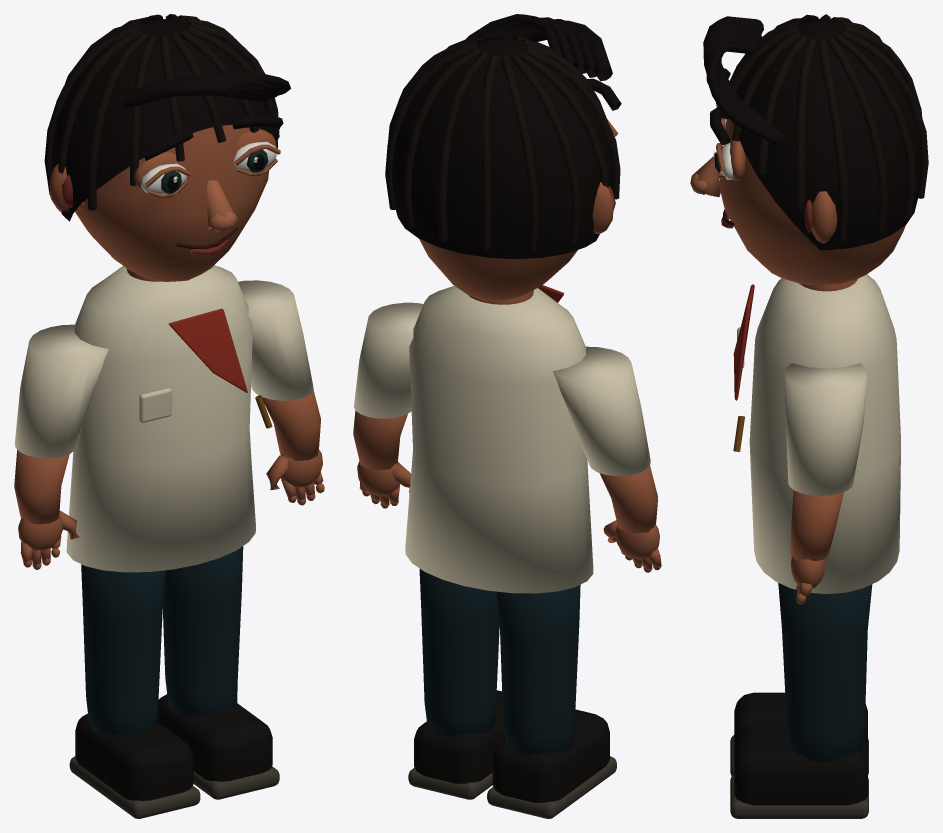
The model's file is receptionist-08.glb.
3 renders of one model, left to right at view 1: azimuth 30°, elevation 25°; view 2: azimuth 150°, elevation 25°; view 3: azimuth 270°, elevation 25°, orthographic. The views are drawn at different scales.
Visible parts, largest first — view 1: Body, Head, LegL, LegR, ArmL, ArmR; view 2: Head, Body, LegL, LegR, ArmL, ArmR; view 3: Head, Body, LegR, ArmR, LegL.
Part boxes in pixels (x1,y1,x2,y2): Body: [66, 265, 272, 572]; Head: [44, 14, 290, 281]; LegL: [69, 564, 200, 818]; LegR: [158, 546, 279, 799]; ArmL: [14, 324, 108, 569]; ArmR: [238, 280, 324, 505]; Head: [385, 14, 621, 301]; Body: [405, 285, 593, 593]; LegL: [487, 584, 616, 818]; LegR: [408, 569, 505, 799]; ArmL: [553, 346, 661, 572]; ArmR: [353, 302, 423, 508]; Head: [690, 14, 928, 284]; Body: [733, 274, 900, 593]; LegR: [730, 583, 872, 818]; ArmR: [784, 363, 867, 604]; LegL: [730, 692, 868, 775].
Bounding box in the file's own units: 0.5566 × 1.32 × 0.3756.
